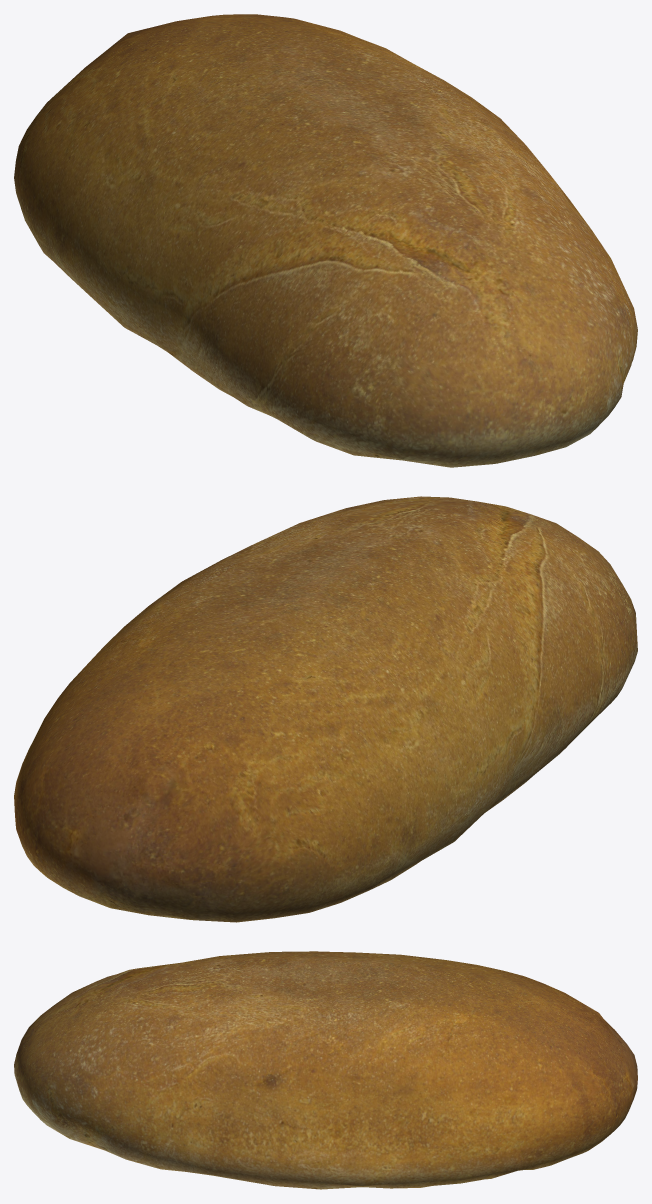
Rendered from PB145_bread_mid_max.FBX.
The picture shows the model from 3 angles, top to bottom: view 1: azimuth 30°, elevation 25°; view 2: azimuth 150°, elevation 25°; view 3: azimuth 270°, elevation 25°; orthographic projection. The views are drawn at different scales.
Parts seen in each view (by area): view 1: RetopoGroup1; view 2: RetopoGroup1; view 3: RetopoGroup1.
Part boxes in pixels (x1,y1,x2,y2): RetopoGroup1: [14, 14, 637, 467]; RetopoGroup1: [14, 496, 637, 922]; RetopoGroup1: [14, 951, 637, 1189].
Bounding box in the file's own units: 25.66 × 13.98 × 49.03.
